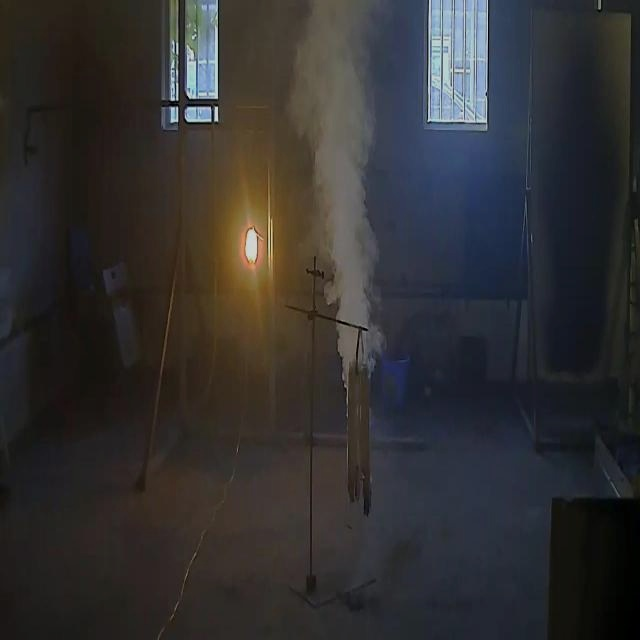smoke: (279, 0, 395, 432)
